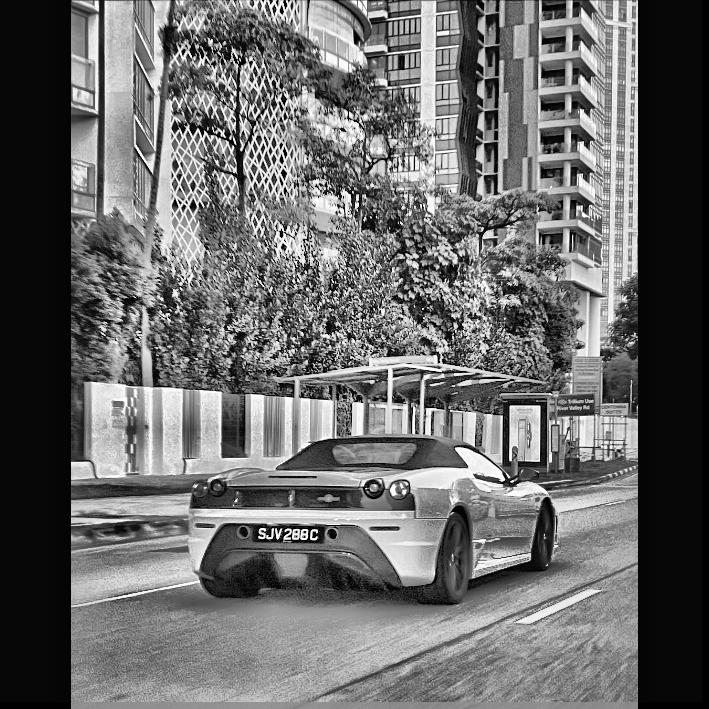License-Plates: (251, 524, 325, 543)
